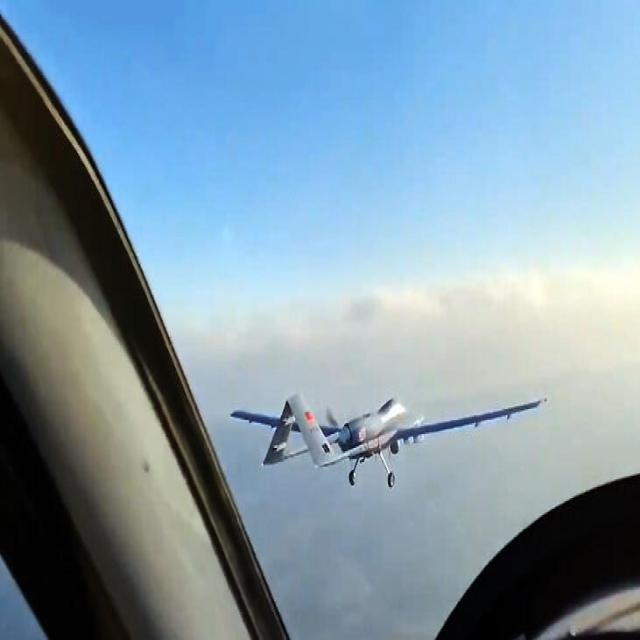iha: (231, 425, 546, 456)
